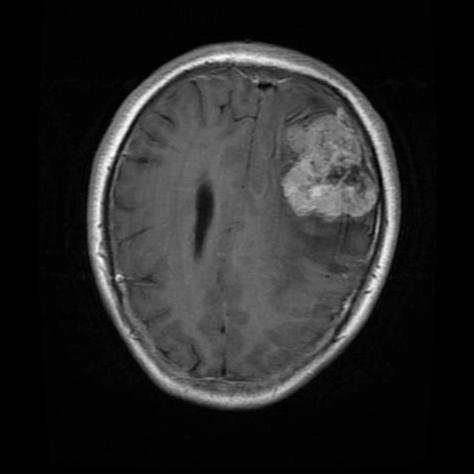Tumour-Pituitary: (272, 88, 394, 251)
